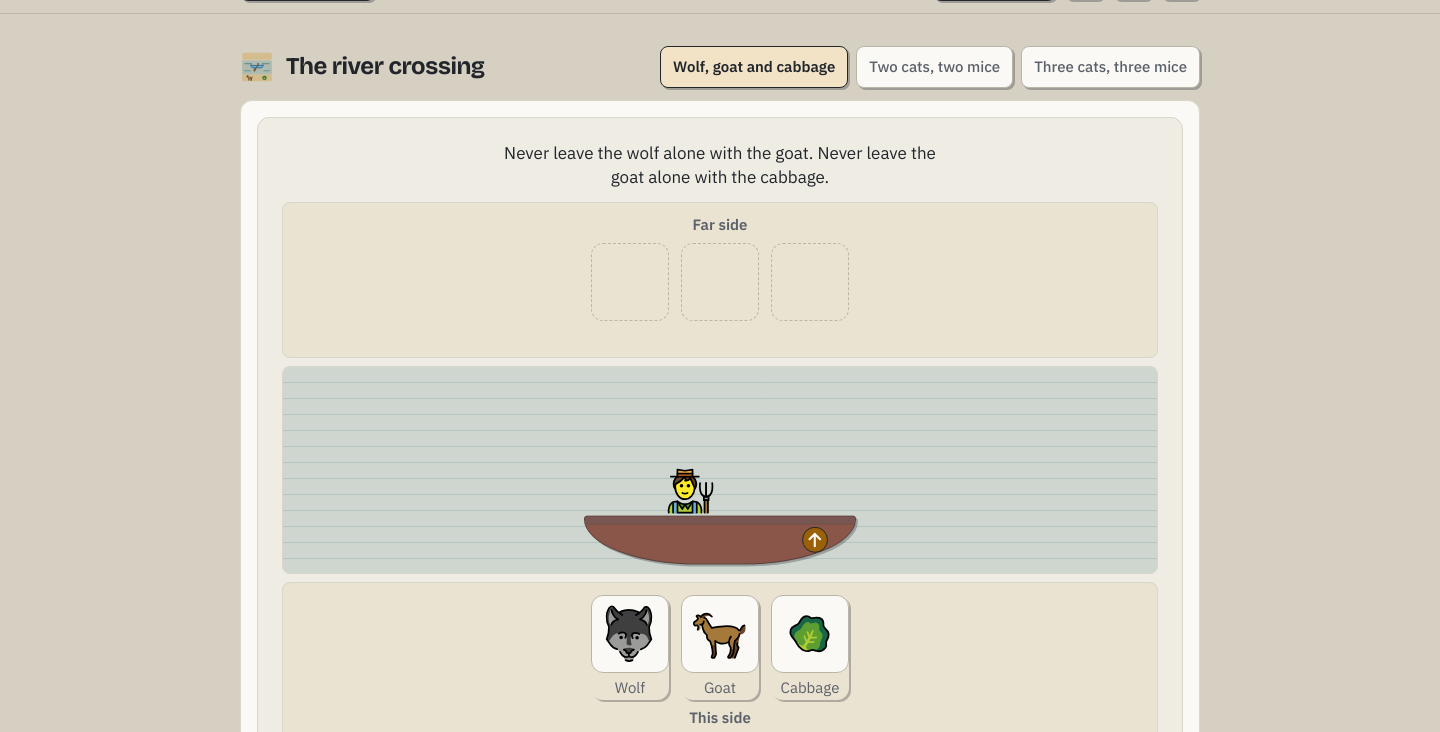
the move tape › is not on the page at all until it is asked for
The image size is (1440, 732).
What coordinates should you click on to do the following:
click the button with aria-label "put the goat in the boat"
I would click on:
 (720, 647)
Its box is [681,595,759,700].
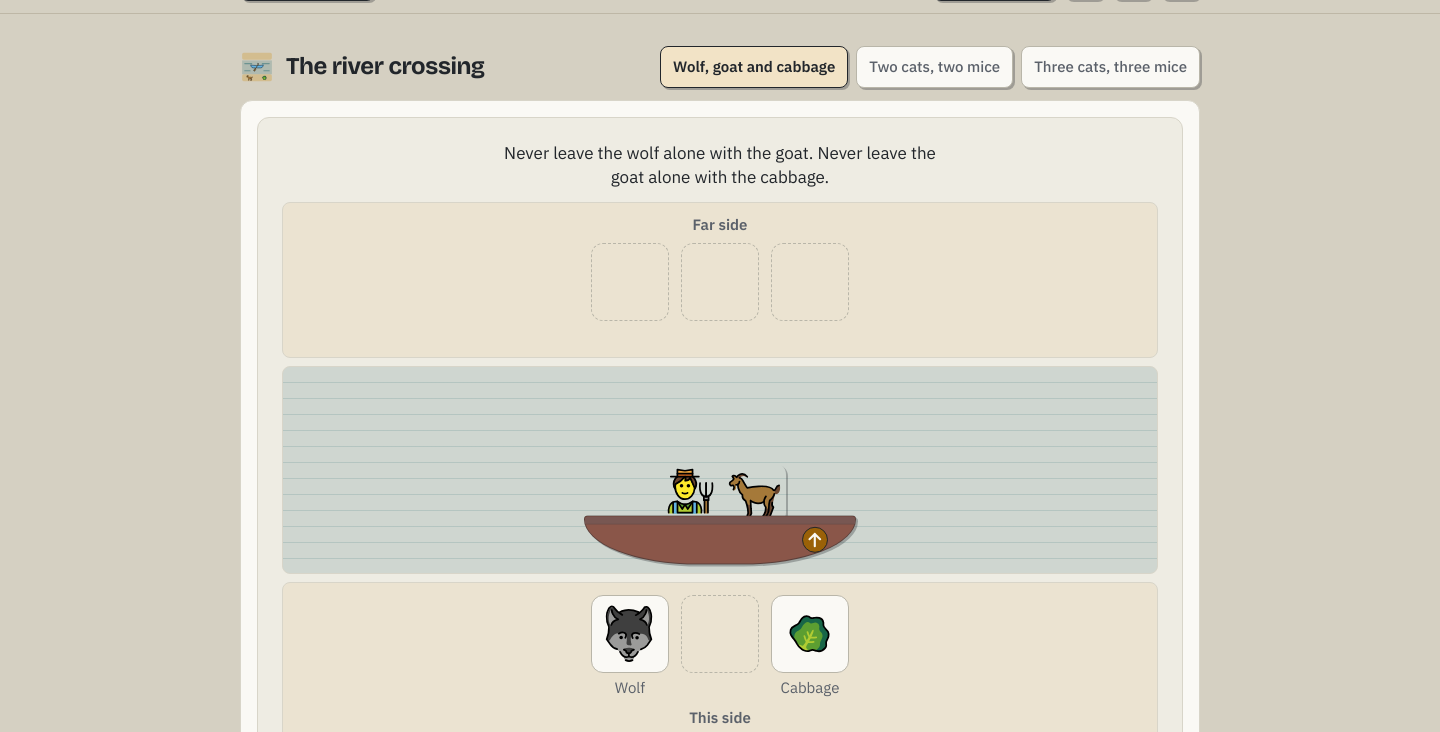
What coordinates should you click on to do the following:
click the button named "row across"
I would click on:
 (720, 521)
Its box is [584,515,856,565].
(page scrolled)
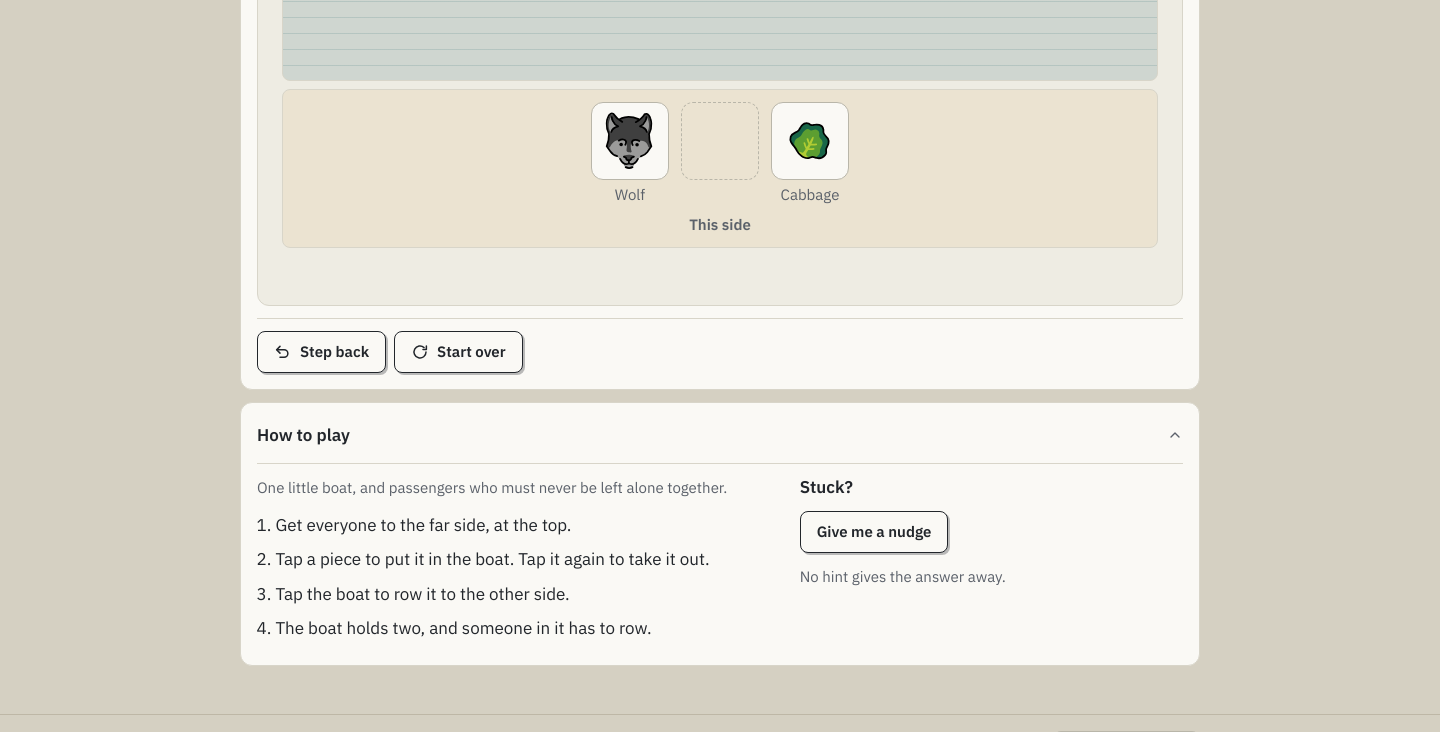
Now the button "Step back" is enabled, box [257,331,386,373]
